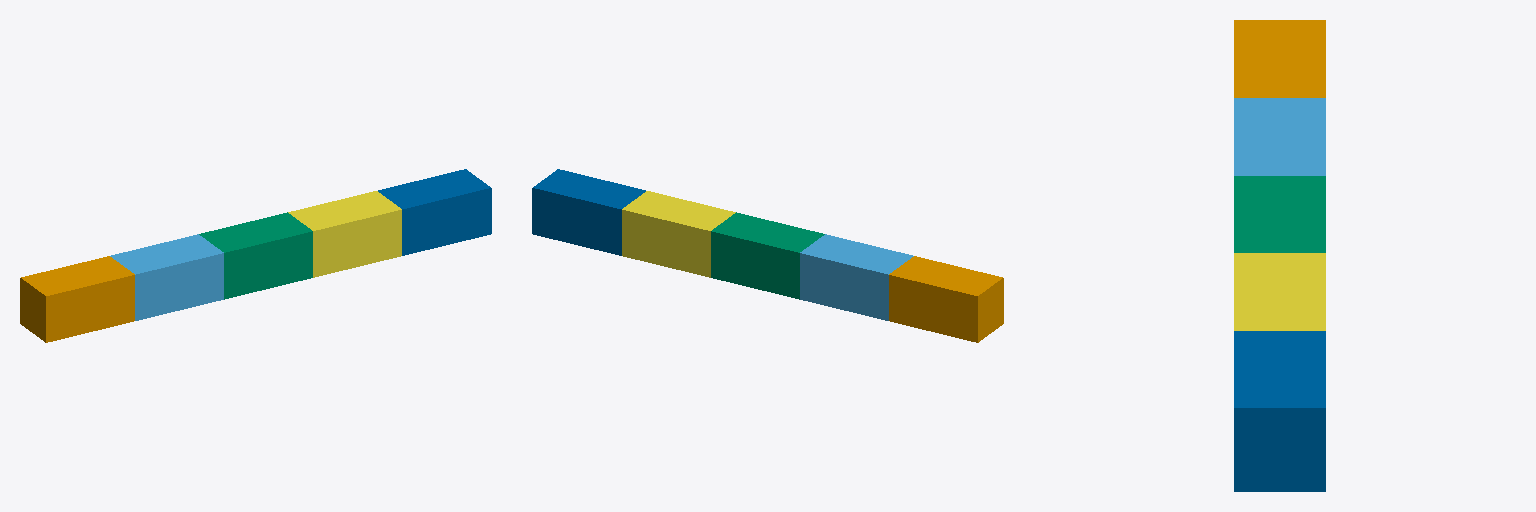
URDF robot description (block5):
<?xml version="1.0" ?>
<robot name="block5">

    <!-- Link1 -->
    <link name="link1">
        <collision>
            <origin rpy="0 0 0" xyz="0 0 0"/>
            <geometry>
                <box size="0.1 0.05 0.05"/>
            </geometry>
        </collision>
        <visual>
        <origin rpy="0 0 0" xyz="0 0 0"/>
            <geometry>
                <box size="0.1 0.05 0.05"/>
            </geometry>
        </visual>
        <inertial>
            <origin rpy="0 0 0" xyz="0.05 0 0"/>
            <mass value="0.05"/>
            <inertia ixx="1e-4" ixy="1e-7" ixz="1e-7" iyy="1e-4" iyz="1e-7" izz="1e-4"/>
        </inertial>
    </link>

    <joint name="Joint1" type="revolute">
        <parent link="link1"/>
        <child link="link2"/>
        <origin rpy="0 0 0" xyz="0.05 0 0"/>
        <axis xyz="0 1 0"/>
        <limit effort="30" lower="-1.57" upper="1.57" velocity="1.571"/>
    </joint>

    <link name="link2">
        <collision>
            <origin rpy="0 0 0" xyz="0.05 0 0"/>
            <geometry>
                <box size="0.1 0.05 0.05"/>
            </geometry>
        </collision>
        <visual>
            <origin rpy="0 0 0" xyz="0.05 0 0"/>
            <geometry>
                <box size="0.1 0.05 0.05"/>
            </geometry>
        </visual>
        <inertial>
            <origin rpy="0 0 0" xyz="0.25 0 0"/>
            <mass value="0.05"/>
            <inertia ixx="1e-4" ixy="1e-7" ixz="1e-7" iyy="1e-4" iyz="1e-7" izz="1e-4"/>
        </inertial>
    </link>

    <joint name="Joint2" type="revolute">
        <parent link="link2"/>
        <child link="link3"/>
        <origin rpy="0 0 0" xyz="0.1 0 0"/>
        <axis xyz="0 1 0"/>
        <limit effort="30" lower="-1.57" upper="1.57" velocity="1.571"/>
    </joint>

    <link name="link3">
        <collision>
            <origin rpy="0 0 0" xyz="0.05 0 0"/>
            <geometry>
                <box size="0.1 0.05 0.05"/>
            </geometry>
        </collision>
        <visual>
            <origin rpy="0 0 0" xyz="0.05 0 0"/>
            <geometry>
                <box size="0.1 0.05 0.05"/>
            </geometry>
        </visual>
        <inertial>
            <origin rpy="0 0 0" xyz="0.05 0 0"/>
            <mass value="0.05"/>
            <inertia ixx="1e-4" ixy="1e-7" ixz="1e-7" iyy="1e-4" iyz="1e-7" izz="1e-4"/>
        </inertial>
    </link>

    <joint name="Joint3" type="revolute">
        <parent link="link3"/>
        <child link="link4"/>
        <origin rpy="0 0 0" xyz="0.1 0 0"/>
        <axis xyz="0 1 0"/>
        <limit effort="30" lower="-1.57" upper="1.57" velocity="1.571"/>
    </joint>

    <link name="link4">
        <collision>
            <origin rpy="0 0 0" xyz="0.05 0 0"/>
            <geometry>
                <box size="0.1 0.05 0.05"/>
            </geometry>
        </collision>
        <visual>
            <origin rpy="0 0 0" xyz="0.05 0 0"/>
            <geometry>
                <box size="0.1 0.05 0.05"/>
            </geometry>
        </visual>
        <inertial>
            <origin rpy="0 0 0" xyz="0.25 0 0"/>
            <mass value="0.05"/>
            <inertia ixx="1e-4" ixy="1e-7" ixz="1e-7" iyy="1e-4" iyz="1e-7" izz="1e-4"/>
        </inertial>
    </link>

    <joint name="Joint4" type="revolute">
        <parent link="link4"/>
        <child link="link5"/>
        <origin rpy="0 0 0" xyz="0.1 0 0"/>
        <axis xyz="0 1 0"/>
        <limit effort="30" lower="-1.57" upper="1.57" velocity="1.571"/>
    </joint>

    <link name="link5">
        <collision>
            <origin rpy="0 0 0" xyz="0.05 0 0"/>
            <geometry>
                <box size="0.1 0.05 0.05"/>
            </geometry>
        </collision>
        <visual>
            <origin rpy="0 0 0" xyz="0.05 0 0"/>
            <geometry>
                <box size="0.1 0.05 0.05"/>
            </geometry>
        </visual>
        <inertial>
            <origin rpy="0 0 0" xyz="0.25 0 0"/>
            <mass value="0.05"/>
            <inertia ixx="1e-4" ixy="1e-7" ixz="1e-7" iyy="1e-4" iyz="1e-7" izz="1e-4"/>
        </inertial>
    </link>


    <transmission name="trans1">
        <type>transmission_interface/SimpleTransmission</type>
        <joint name="Joint1">
            <hardwareInterface>hardware_interface/VelocityJointInterface</hardwareInterface>
        </joint>
        <actuator name="moter1">
            <hardwareInterface>VelocityJointInterface</hardwareInterface>
        </actuator>
    </transmission>

    <transmission name="trans2">
        <type>transmission_interface/SimpleTransmission</type>
        <joint name="Joint2">
            <hardwareInterface>hardware_interface/VelocityJointInterface</hardwareInterface>
        </joint>
        <actuator name="moter2">
            <hardwareInterface>VelocityJointInterface</hardwareInterface>
        </actuator>
    </transmission>

    <transmission name="trans3">
        <type>transmission_interface/SimpleTransmission</type>
        <joint name="Joint3">
            <hardwareInterface>hardware_interface/VelocityJointInterface</hardwareInterface>
        </joint>
        <actuator name="moter3">
            <hardwareInterface>VelocityJointInterface</hardwareInterface>
        </actuator>
    </transmission>

    <transmission name="trans4">
        <type>transmission_interface/SimpleTransmission</type>
        <joint name="Joint4">
            <hardwareInterface>hardware_interface/VelocityJointInterface</hardwareInterface>
        </joint>
        <actuator name="moter4">
            <hardwareInterface>VelocityJointInterface</hardwareInterface>
        </actuator>
    </transmission>


    <gazebo>
        <plugin name="gazebo_ros_control" filename="libgazebo_ros_control.so">
            <robotNamespace>block5</robotNamespace>
            <robotSimType>gazebo_ros_control/DefaultRobotHWSim</robotSimType>
            <legacyModeNS>true</legacyModeNS> 
        </plugin>
    </gazebo>

    <gazebo reference="link1">
      <selfCollide>true</selfCollide>
      <gravity>1</gravity>
      <mu1>10.0</mu1>
      <mu2>10.0</mu2>
      <minDepth>0.002</minDepth>
    </gazebo>

    <gazebo reference="link2">
      <selfCollide>true</selfCollide>
      <gravity>1</gravity>
      <mu1>10.0</mu1>
      <mu2>10.0</mu2>
      <minDepth>0.002</minDepth>
    </gazebo>

    <gazebo reference="link3">
      <selfCollide>true</selfCollide>
      <gravity>1</gravity>
      <mu1>10.0</mu1>
      <mu2>10.0</mu2>
      <minDepth>0.002</minDepth>
    </gazebo>

    <gazebo reference="link4">
      <selfCollide>true</selfCollide>
      <gravity>1</gravity>
      <mu1>10.0</mu1>
      <mu2>10.0</mu2>
      <minDepth>0.002</minDepth>
    </gazebo>

    <gazebo reference="link5">
      <selfCollide>true</selfCollide>
      <gravity>1</gravity>
      <mu1>10.0</mu1>
      <mu2>10.0</mu2>
      <minDepth>0.002</minDepth>
    </gazebo>

</robot>

--- Facts derived from the render (not from the file) ---
Views: 3 orthographic renders of the robot side by side, from view 1: azimuth 30°, elevation 25°; view 2: azimuth 150°, elevation 25°; view 3: azimuth 270°, elevation 25°.
Model block5 with 5 links and 4 joints (4 revolute), rooted at link1, posed all joints at 0.
Visible links, largest first — view 1: link1, link5, link3, link4, link2; view 2: link1, link5, link3, link4, link2; view 3: link5, link1, link2, link4, link3.
Link boxes in pixels (bbox=[...]): link1: bbox=[20, 256, 134, 342]; link5: bbox=[378, 169, 491, 255]; link3: bbox=[199, 212, 312, 299]; link4: bbox=[288, 191, 401, 277]; link2: bbox=[110, 234, 223, 320]; link1: bbox=[889, 256, 1003, 342]; link5: bbox=[532, 169, 645, 255]; link3: bbox=[711, 212, 824, 299]; link4: bbox=[622, 191, 735, 277]; link2: bbox=[800, 234, 913, 320]; link5: bbox=[1234, 331, 1325, 491]; link1: bbox=[1234, 20, 1325, 97]; link2: bbox=[1234, 98, 1325, 175]; link4: bbox=[1234, 253, 1325, 330]; link3: bbox=[1234, 176, 1325, 252].
Bounding box of the posed robot: 0.5 × 0.05 × 0.05 m (x, y, z).
Geometry: primitives only (box / cylinder / sphere), no mesh files.